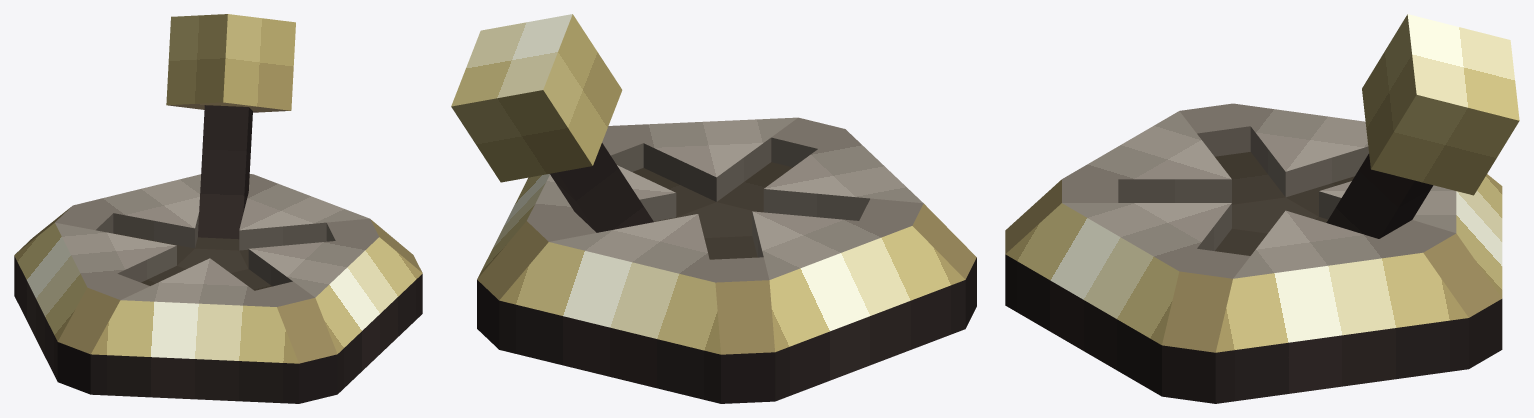
The model's file is lever_6state_4.obj.
3 views of the same model, side by side, from view 1: azimuth 30°, elevation 25°; view 2: azimuth 150°, elevation 25°; view 3: azimuth 270°, elevation 25° (orthographic). The views are drawn at different scales.
Parts seen in each view (by area): view 1: 6-STATE_Circle.003, LEVER_Cube.049; view 2: 6-STATE_Circle.003, LEVER_Cube.049; view 3: 6-STATE_Circle.003, LEVER_Cube.049.
Boxes of the visible parts, bbox=[...] form: 6-STATE_Circle.003: bbox=[14, 174, 422, 403]; LEVER_Cube.049: bbox=[166, 14, 295, 239]; 6-STATE_Circle.003: bbox=[477, 117, 976, 403]; LEVER_Cube.049: bbox=[451, 14, 653, 232]; 6-STATE_Circle.003: bbox=[1005, 103, 1502, 403]; LEVER_Cube.049: bbox=[1326, 14, 1519, 238].
Bounding box in the file's own units: 0.5776 × 0.3924 × 0.5686.
